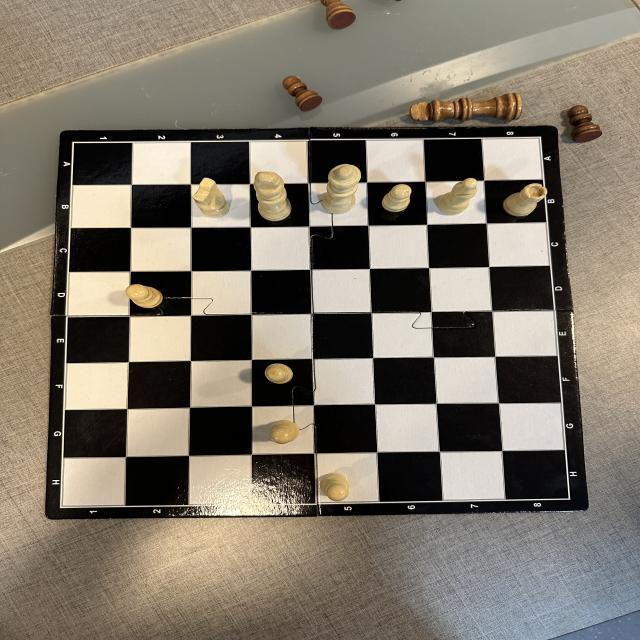Black-King: (408, 92, 522, 122)
Black-Pawn: (282, 75, 322, 110), (567, 104, 602, 142), (320, 0, 356, 29)
White-Bishop: (438, 178, 478, 215)
White-King: (254, 171, 292, 221)
White-Knight: (193, 177, 230, 217)
White-Pawn: (126, 284, 163, 308), (381, 184, 412, 212), (321, 473, 349, 502), (272, 420, 300, 444), (265, 363, 294, 383)
White-Queen: (323, 164, 361, 214)
White-Rook: (503, 183, 547, 217)
